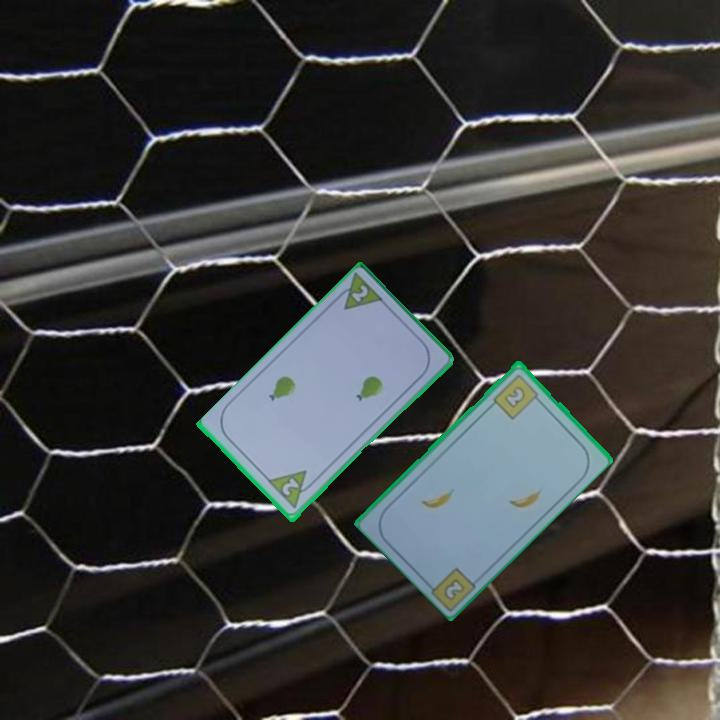2b: (490, 370, 544, 422), (440, 574, 468, 603)
2p: (278, 475, 302, 499), (348, 282, 371, 306)
